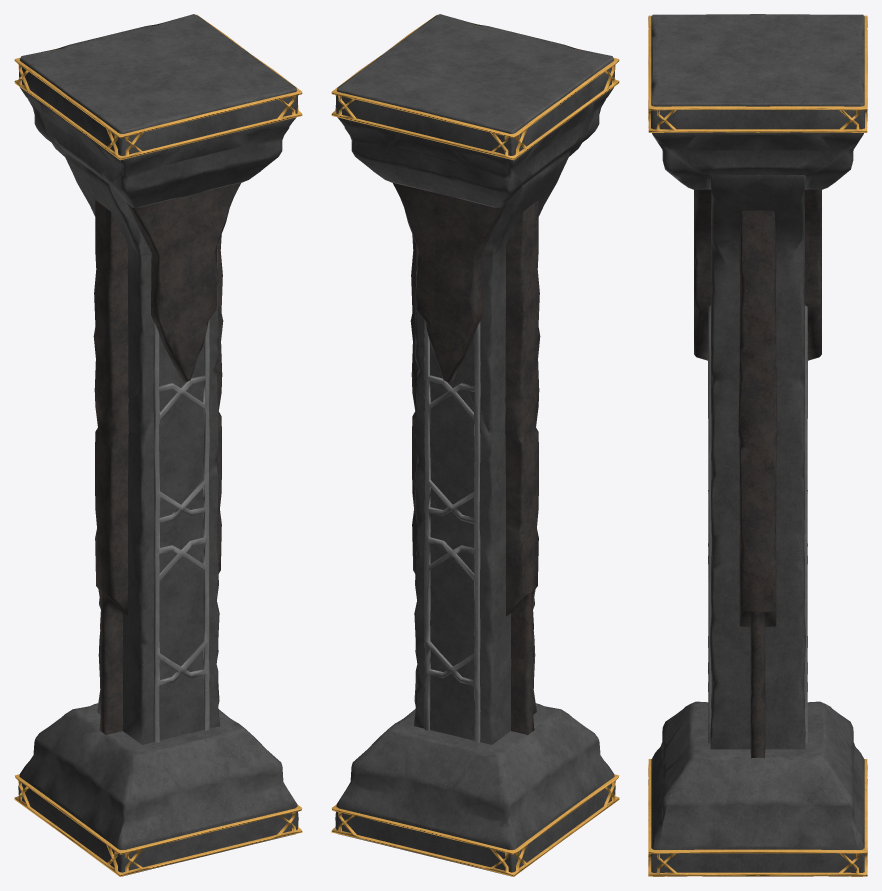
File: SM_BuildingColumn.fbx
The picture shows the model from 3 angles, left to right: view 1: azimuth 30°, elevation 25°; view 2: azimuth 150°, elevation 25°; view 3: azimuth 270°, elevation 25°; orthographic projection. The views are drawn at different scales.
Parts seen in each view (by area): view 1: SM_BuildingColumn_LOD0; view 2: SM_BuildingColumn_LOD0; view 3: SM_BuildingColumn_LOD0.
Boxes of the visible parts, x1,y1,x2,y2 form: SM_BuildingColumn_LOD0: (14, 14, 302, 876); SM_BuildingColumn_LOD0: (331, 14, 619, 876); SM_BuildingColumn_LOD0: (648, 14, 867, 876).
Size of the model in its own units: 77.03 by 77.06 by 300.
4 materials, 4 textured.
